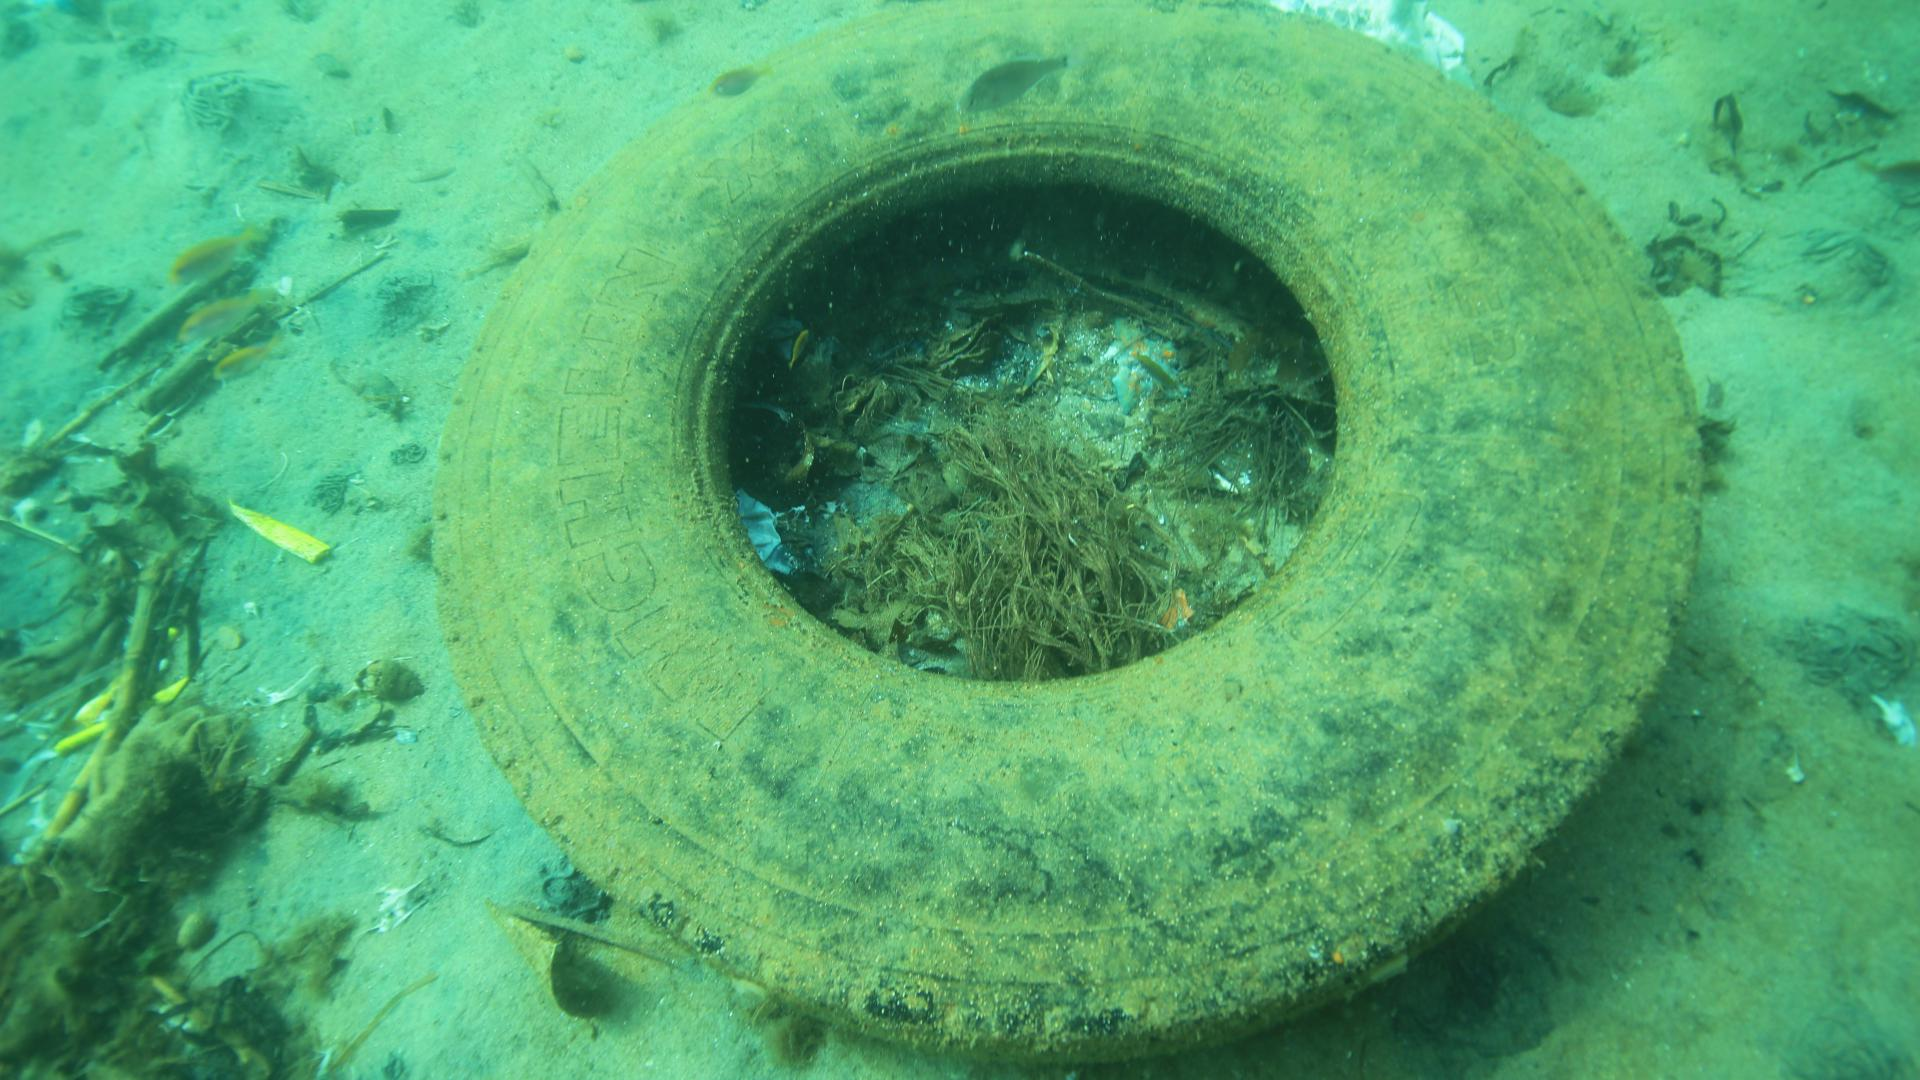tire: (426, 0, 1720, 1064)
